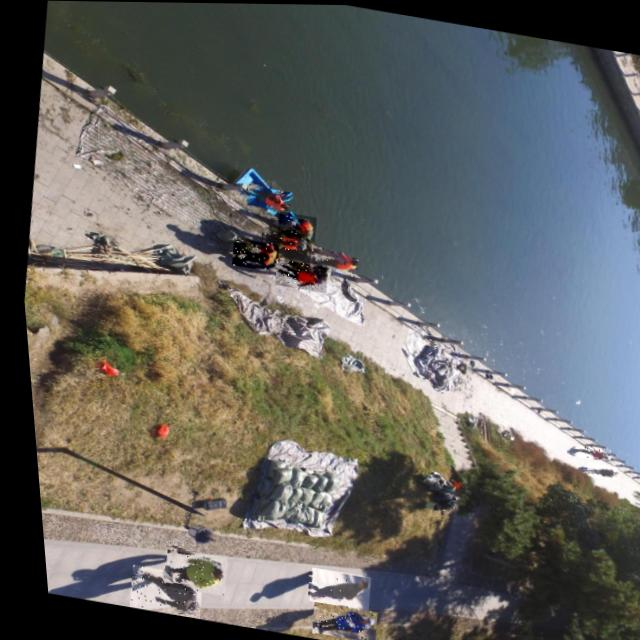Person: (115, 564, 195, 618), (149, 546, 220, 596), (294, 566, 362, 610), (298, 601, 368, 640), (268, 258, 324, 293), (224, 236, 276, 272), (240, 182, 289, 214), (305, 246, 358, 272), (271, 211, 313, 241), (255, 228, 305, 252), (568, 442, 604, 461), (577, 461, 610, 479)
